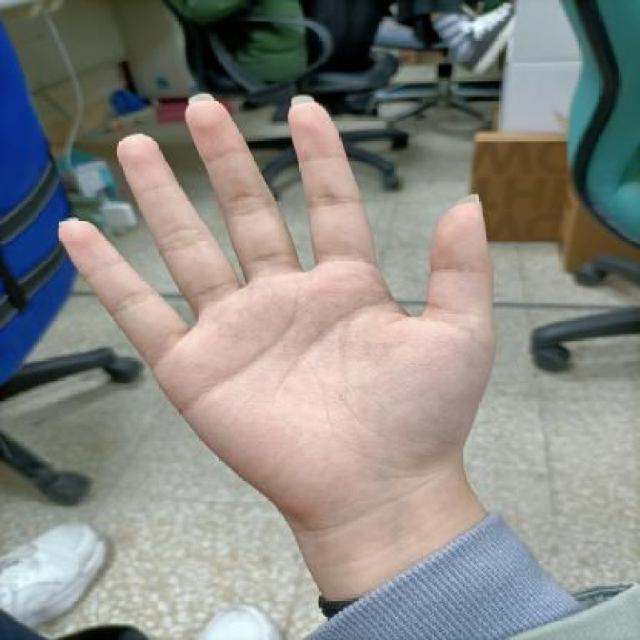bare_hand: (42, 77, 513, 543)
